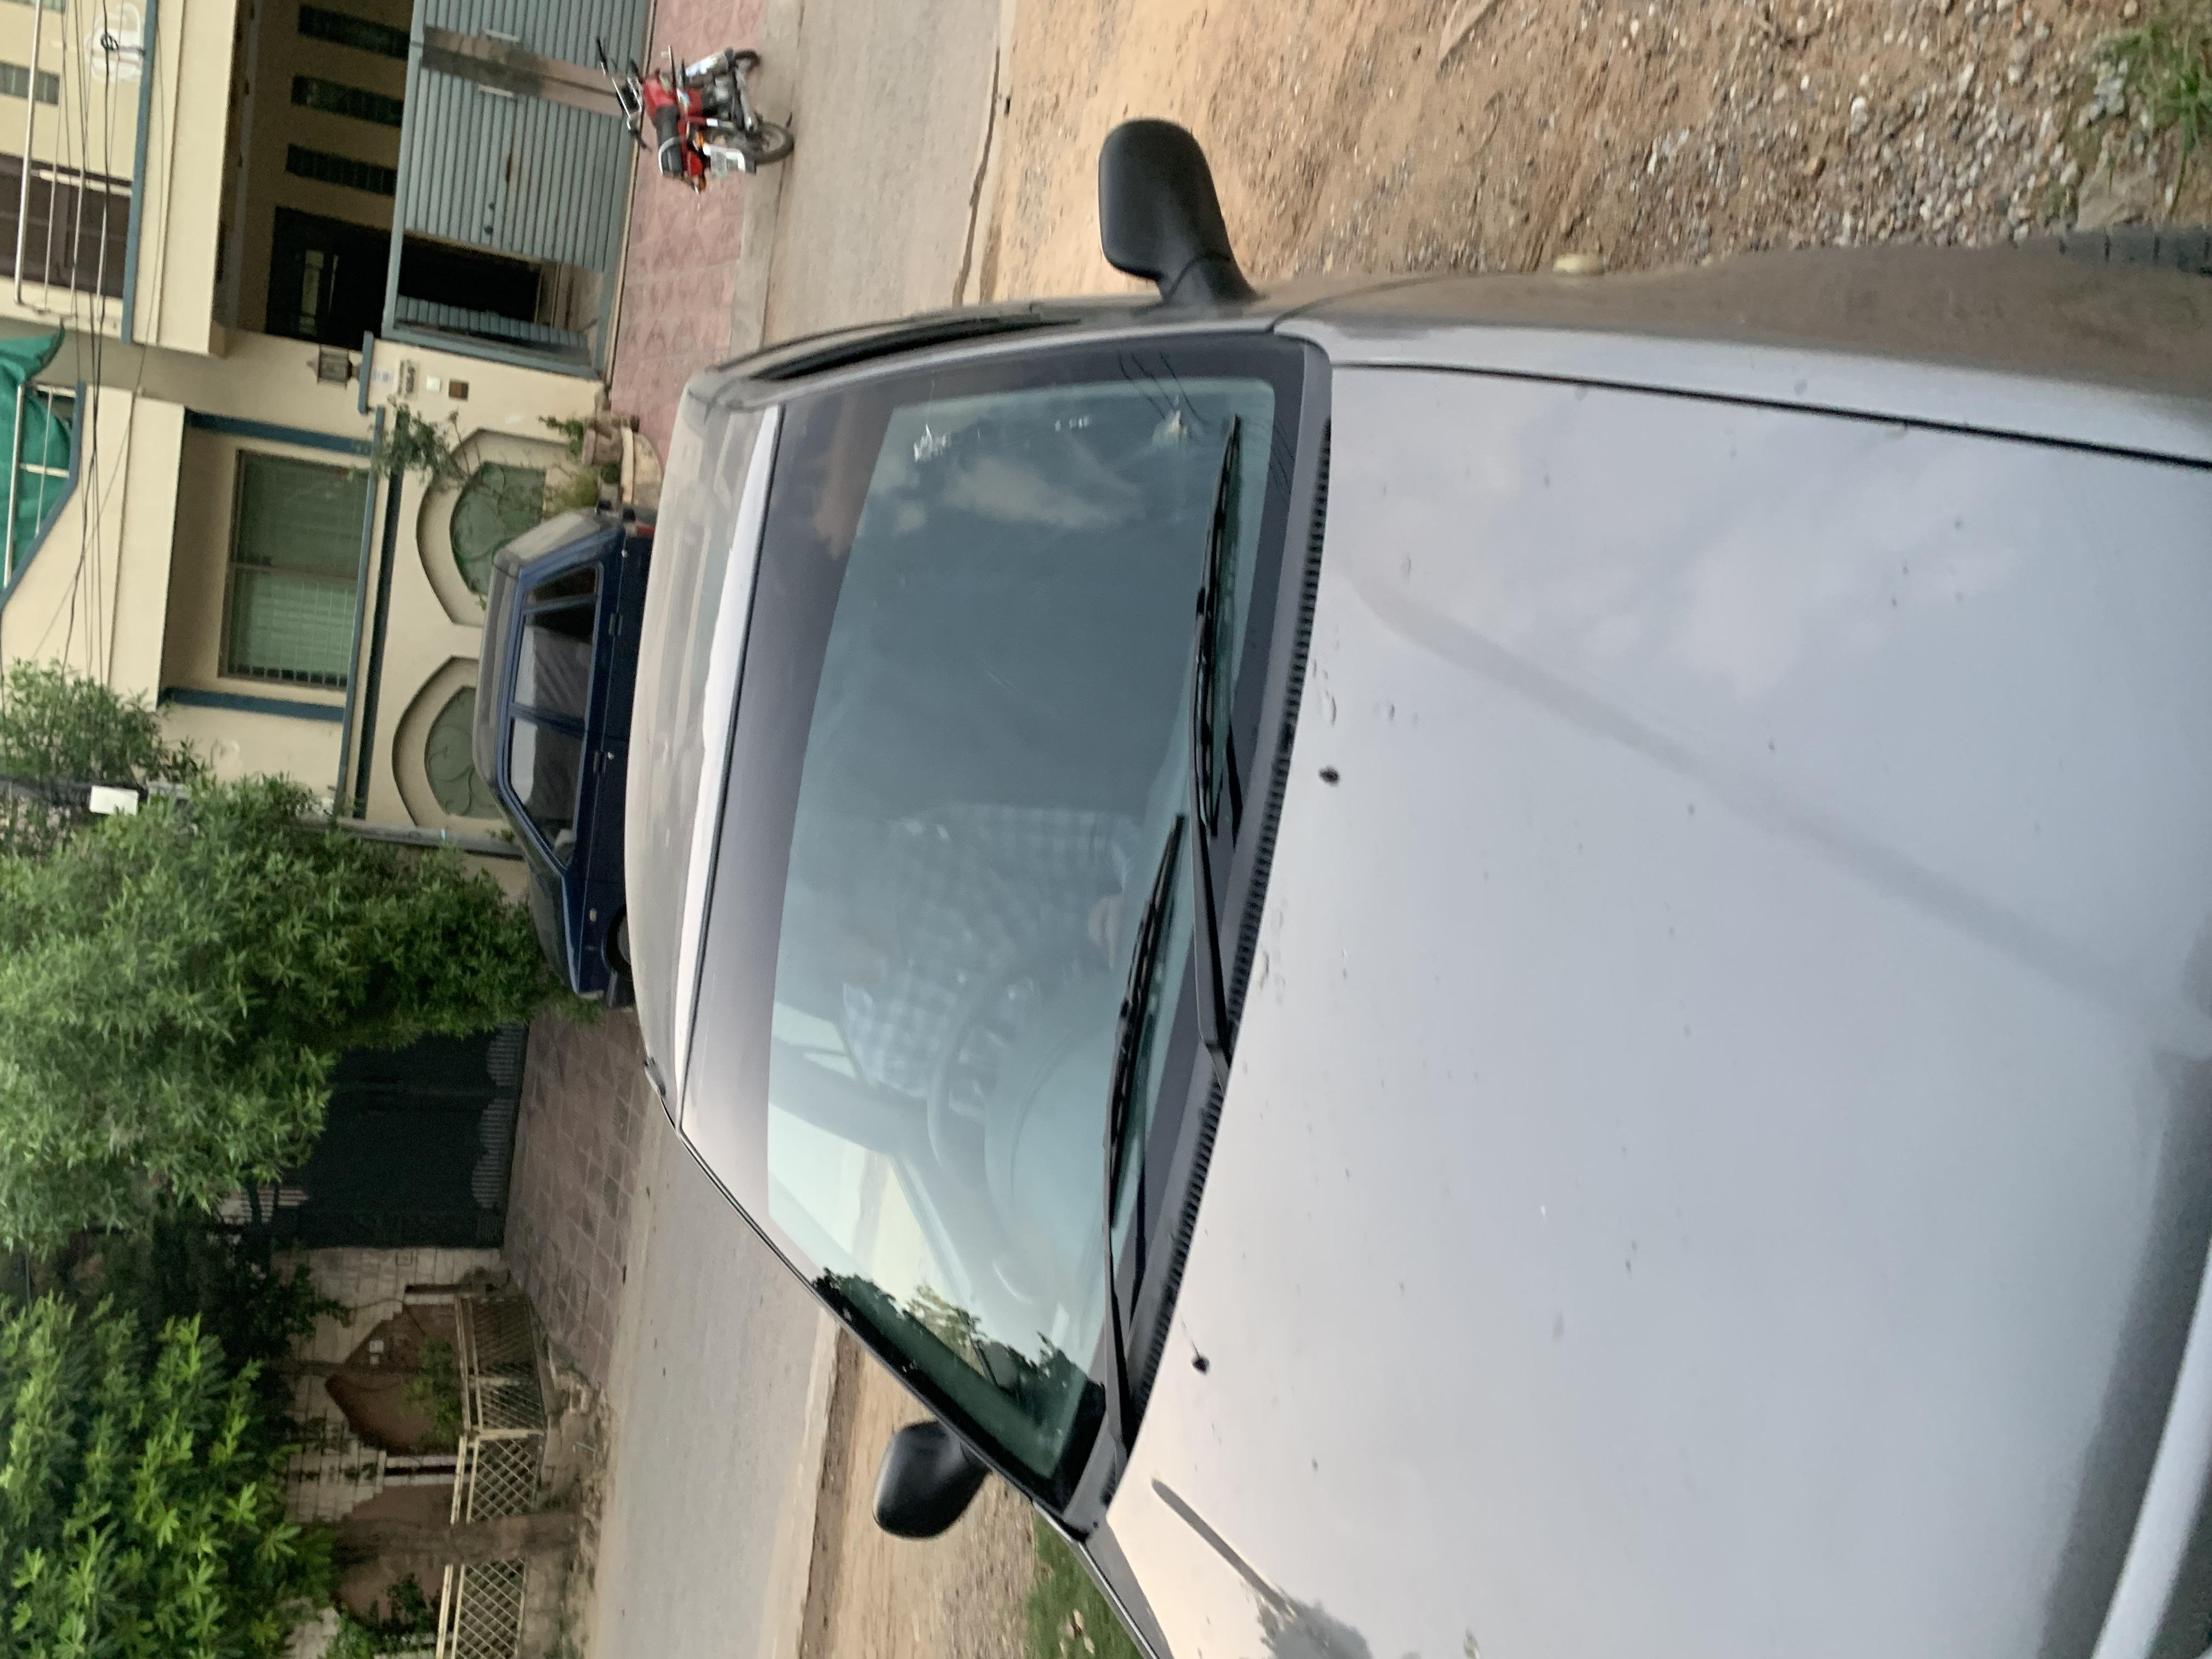windshield: (134, 498, 1785, 1000)
